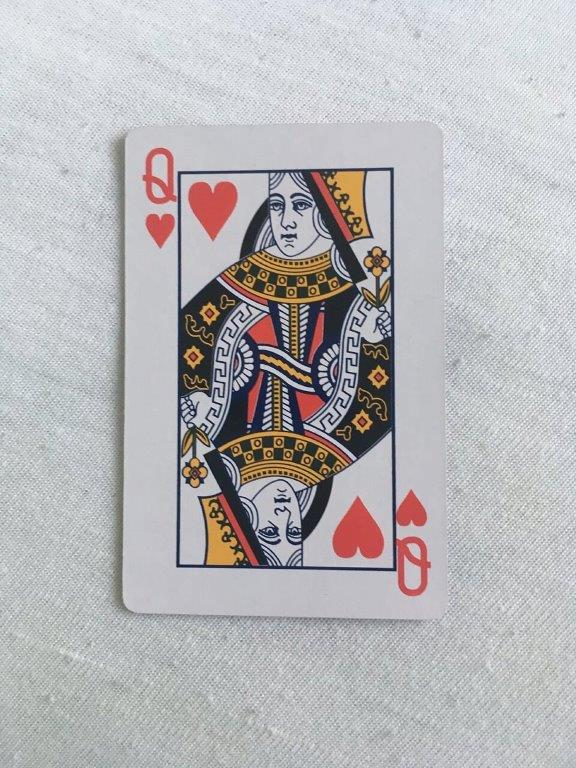QH: (119, 119, 451, 625)
